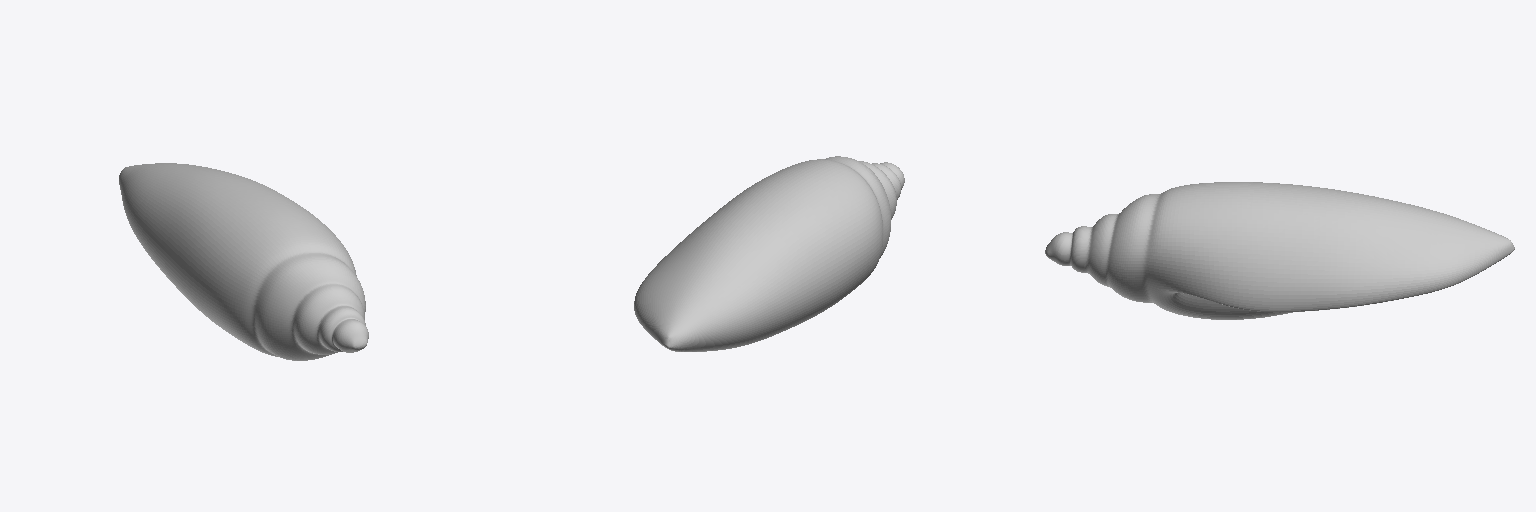
File: shell.obj
3 views of the same model, side by side, from view 1: azimuth 30°, elevation 25°; view 2: azimuth 150°, elevation 25°; view 3: azimuth 270°, elevation 25° (orthographic).
Visible parts, largest first — view 1: 18445_Junonia_Shell; view 2: 18445_Junonia_Shell; view 3: 18445_Junonia_Shell.
Boxes of the visible parts, <box> form: 18445_Junonia_Shell: <box>119,163,368,360</box>; 18445_Junonia_Shell: <box>634,156,904,351</box>; 18445_Junonia_Shell: <box>1045,182,1514,319</box>.
Bounding box in the file's own units: 1.74 × 1.41 × 4.81.